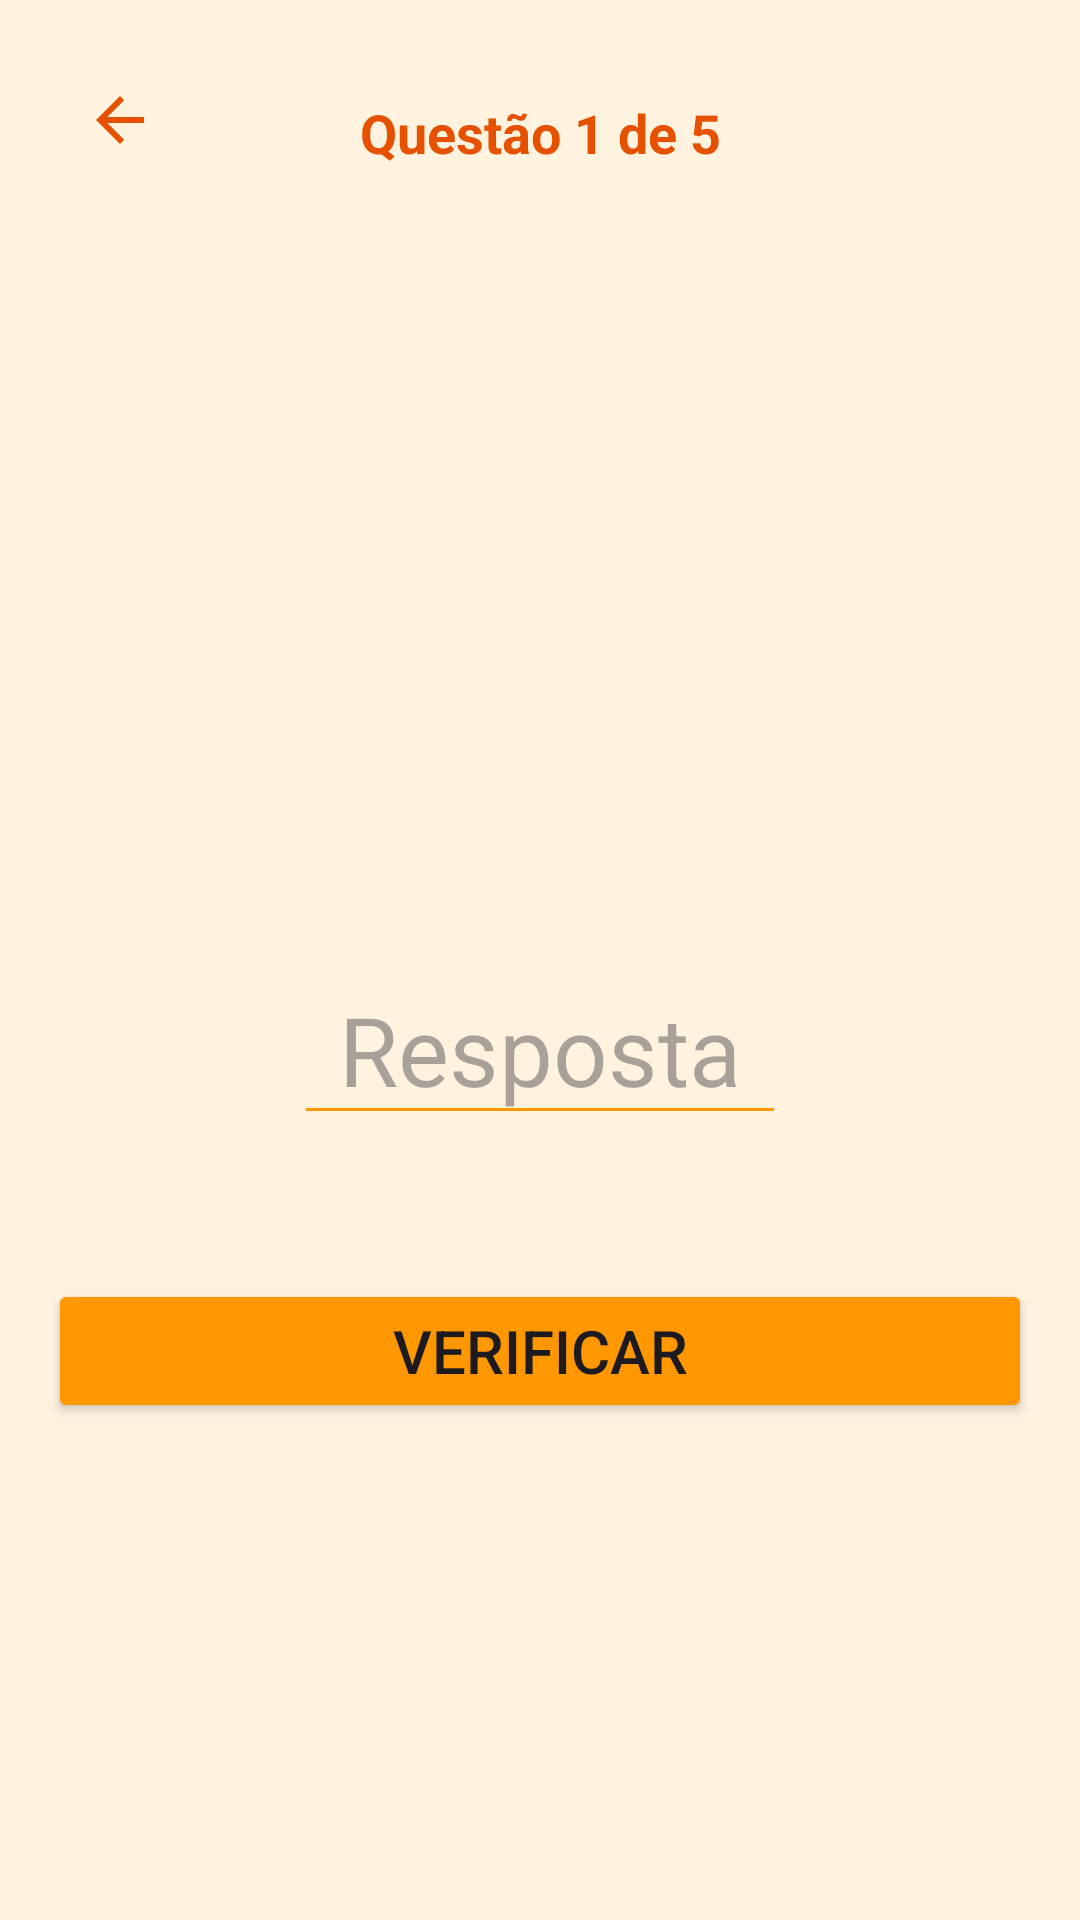

Where to tap for icons on this 1080*1920 app screen, as point (x, y):
Voltar ao menu: point (120, 120)
